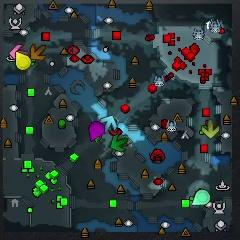p2: (192, 190, 210, 206)
p3: (89, 120, 104, 142)
p4: (16, 51, 31, 71)
x1: (10, 44, 28, 59)
x2: (202, 119, 219, 138)
x3: (100, 114, 117, 133)
x4: (110, 134, 128, 152)
x5: (30, 43, 47, 60)
